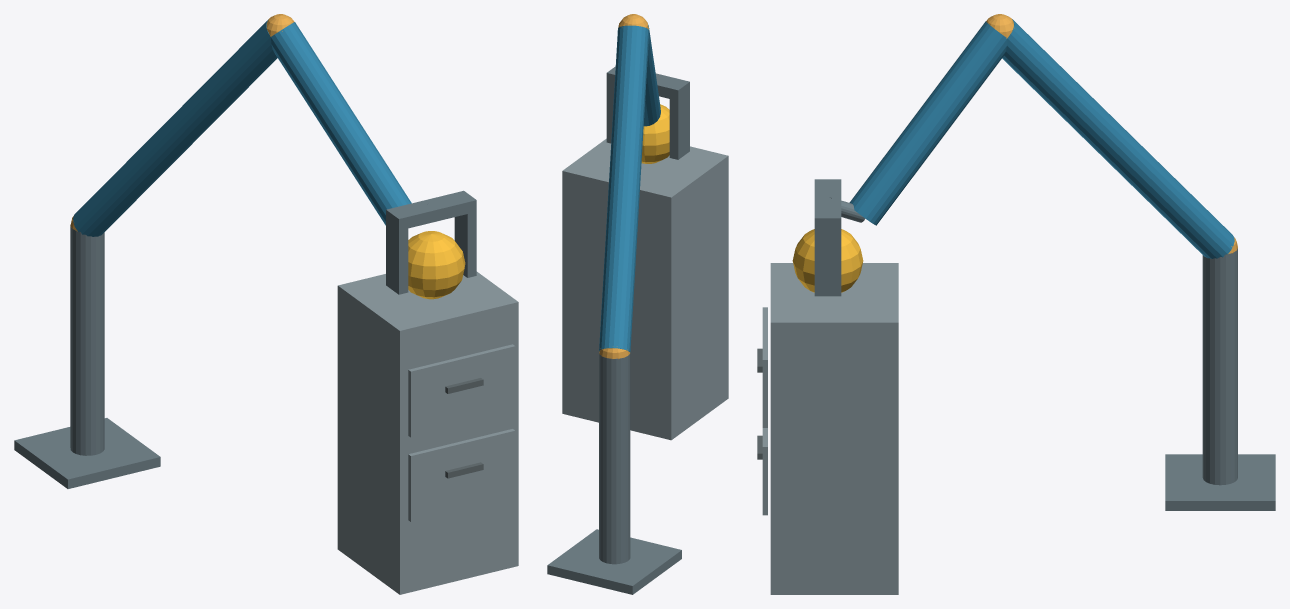
The picture shows the model from 3 angles, left to right: view 1: azimuth 30°, elevation 25°; view 2: azimuth 150°, elevation 25°; view 3: azimuth 270°, elevation 25°; orthographic projection. The views are drawn at different scales.
Parts seen in each view (by area): view 1: cabinet_1 body, moving link 1, fixed post, moving link 2, cabinet_1 drawer front, cabinet_1 drawer front.001, pedestal, ball ball_1, gripper bridge, gripper finger -1, gripper finger 1; view 2: cabinet_1 body, moving link 1, fixed post, pedestal, gripper finger -1, ball ball_1, moving link 2, gripper bridge, gripper finger 1, joint 2, joint 1; view 3: cabinet_1 body, moving link 1, fixed post, moving link 2, pedestal, ball ball_1, gripper finger 1, gripper bridge, cabinet_1 drawer front.001.
Boxes of the visible parts, <box> form: cabinet_1 body: <box>337,271,518,594</box>; moving link 1: <box>73,20,277,236</box>; fixed post: <box>70,224,104,455</box>; moving link 2: <box>271,22,411,225</box>; cabinet_1 drawer front: <box>408,429,515,521</box>; cabinet_1 drawer front.001: <box>408,344,515,437</box>; pedestal: <box>14,418,160,488</box>; ball ball_1: <box>408,231,465,299</box>; gripper bridge: <box>386,190,476,230</box>; gripper finger -1: <box>386,221,408,294</box>; gripper finger 1: <box>454,212,476,277</box>; cabinet_1 body: <box>562,138,728,440</box>; moving link 1: <box>599,25,649,352</box>; fixed post: <box>599,352,630,564</box>; pedestal: <box>547,529,681,594</box>; gripper finger -1: <box>669,93,689,159</box>; ball ball_1: <box>641,104,669,163</box>; moving link 2: <box>643,24,660,126</box>; gripper bridge: <box>606,66,689,100</box>; gripper finger 1: <box>606,83,614,143</box>; joint 2: <box>618,14,648,29</box>; joint 1: <box>599,346,629,359</box>; cabinet_1 body: <box>770,263,898,594</box>; moving link 1: <box>1002,19,1234,258</box>; fixed post: <box>1202,248,1237,485</box>; moving link 2: <box>849,21,1007,225</box>; pedestal: <box>1165,454,1275,510</box>; ball ball_1: <box>792,229,863,292</box>; gripper finger 1: <box>814,230,841,296</box>; gripper bridge: <box>814,179,841,230</box>; cabinet_1 drawer front.001: <box>762,307,767,427</box>.
Size of the model in its own units: 0.6992 by 1.29 by 1.17.
